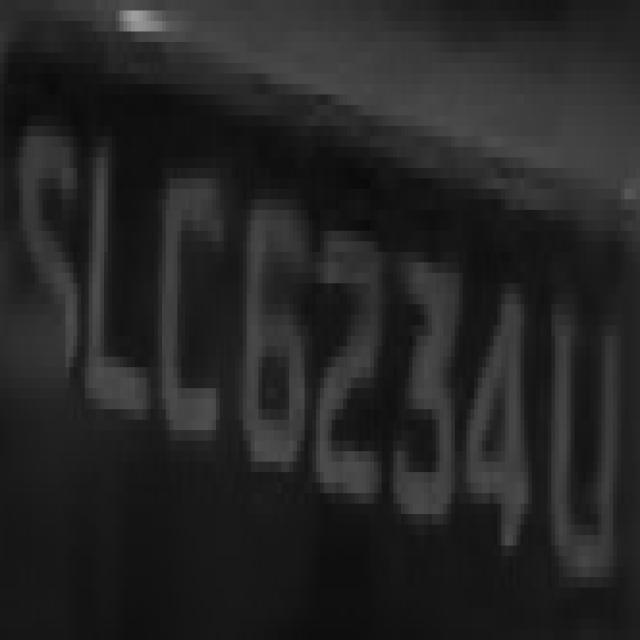2: (308, 178, 382, 514)
3: (378, 189, 466, 566)
4: (455, 220, 544, 598)
6: (231, 137, 320, 546)
C: (162, 105, 227, 493)
L: (85, 84, 162, 483)
S: (19, 105, 89, 399)
U: (544, 241, 632, 640)
